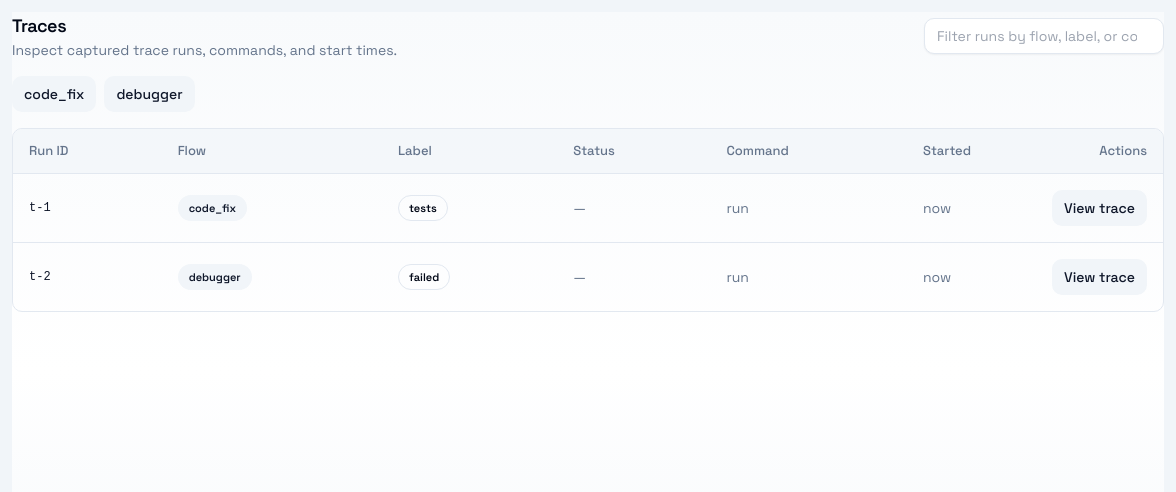
Scenario: TracesPage interactions › filters traces by id, flow name, or label
Expected: the button "t-1" is shown, [29,192,51,224]
Step 1. Type "debug" into the search field with placeholder "Filter runs by flow, label, or command" → (1044, 36), box [924,18,1164,54]
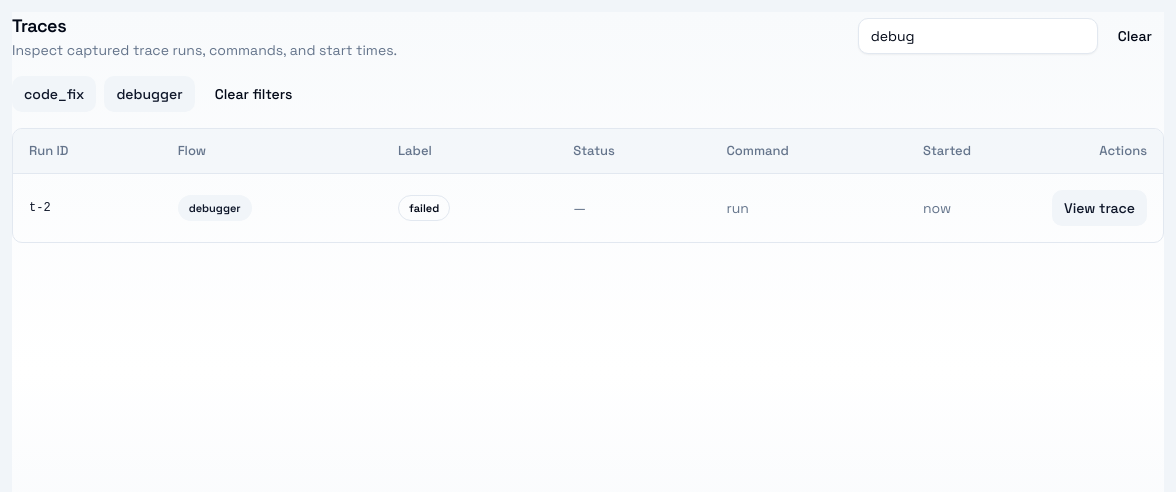
Expected: the button "t-2" is shown, [29,192,51,224]
Expected: the button "t-1" is gone
Step 2. Replace the text in the search field with placeholder "Filter runs by flow, label, or command" with "tests" → (978, 36), box [858,18,1098,54]
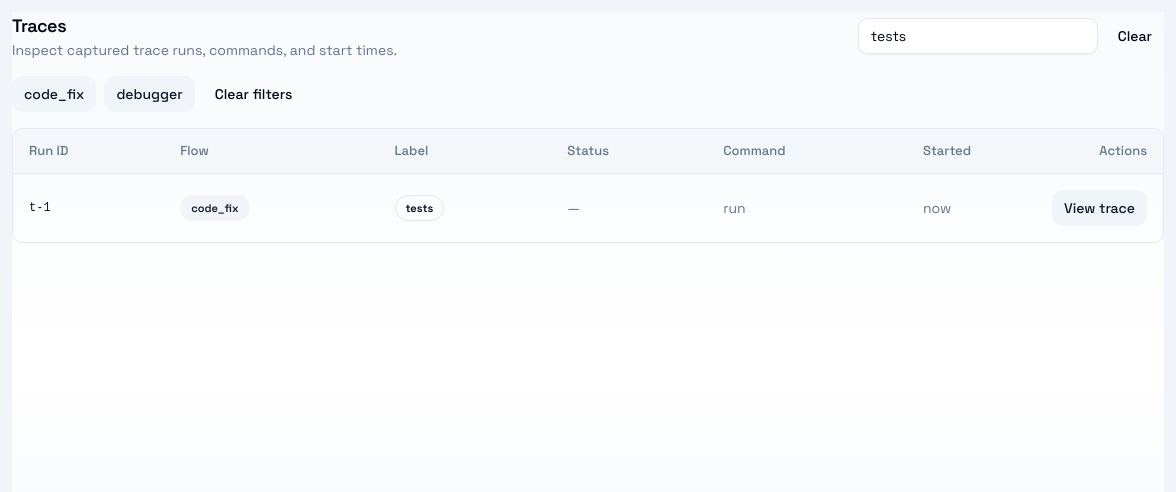
Expected: the button "t-1" is shown, [29,192,51,224]
Step 3. Replace the text in the search field with placeholder "Filter runs by flow, label, or command" with "nope" → (978, 36), box [858,18,1098,54]
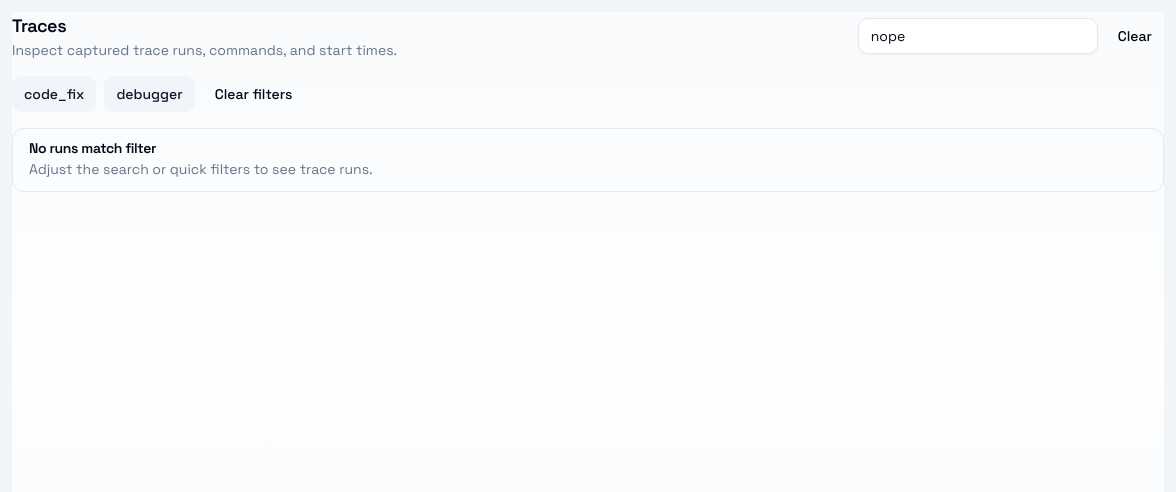
Expected: the heading "No runs match filter" is shown, [29,139,156,157]
